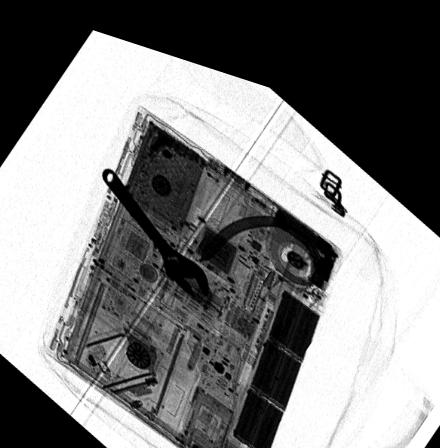Wrench: (101, 160, 211, 289)
